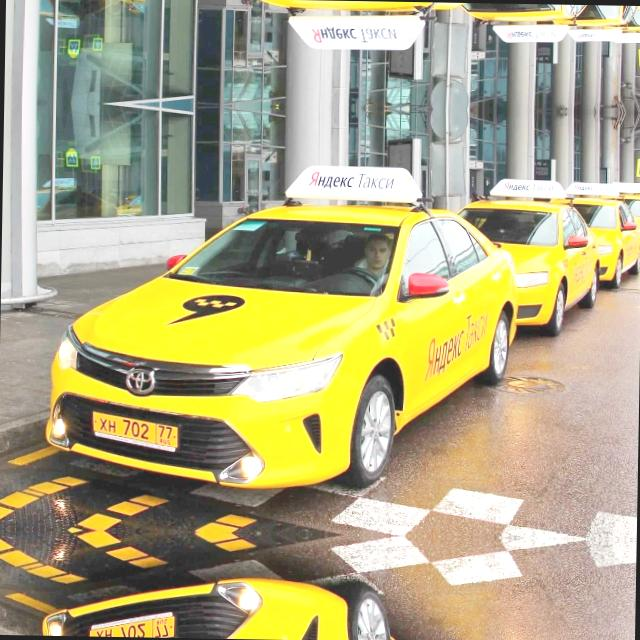taxi: (82, 404, 184, 460), (78, 600, 180, 638)
